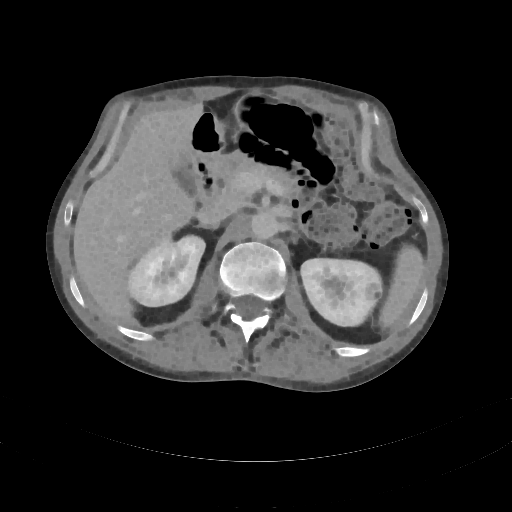Lesion: (365, 280, 381, 299)
